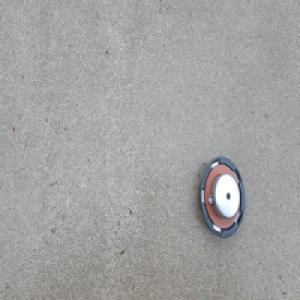FuelCap: (198, 156, 245, 241)
